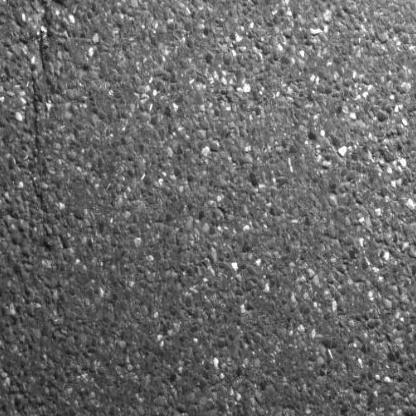Cracks: (25, 0, 69, 200)
